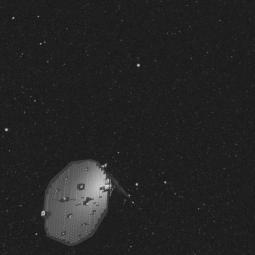lisa_pathfinder: (21, 152, 144, 249)
